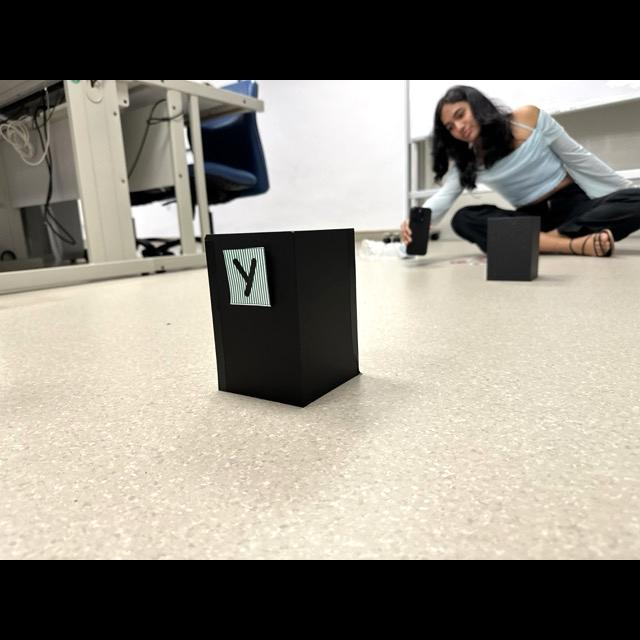Y: (233, 257, 256, 297)
